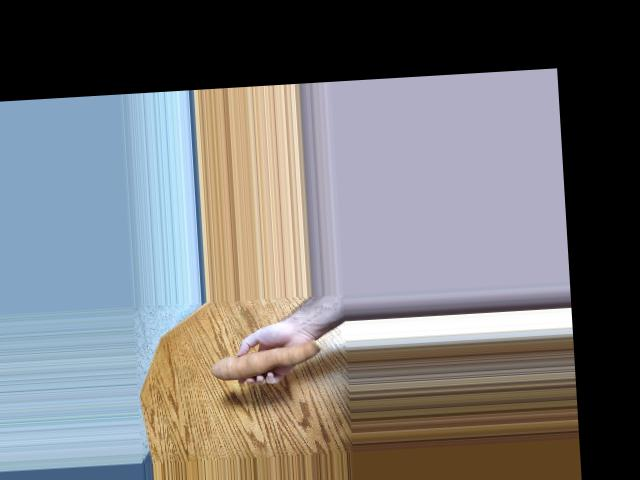sweet_potato: (209, 339, 316, 388)
